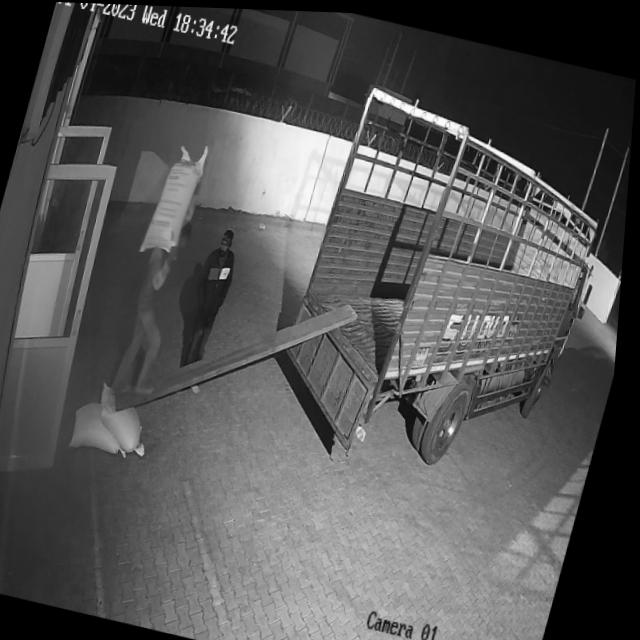sack: (142, 134, 213, 264), (93, 380, 167, 456), (73, 398, 143, 458)
